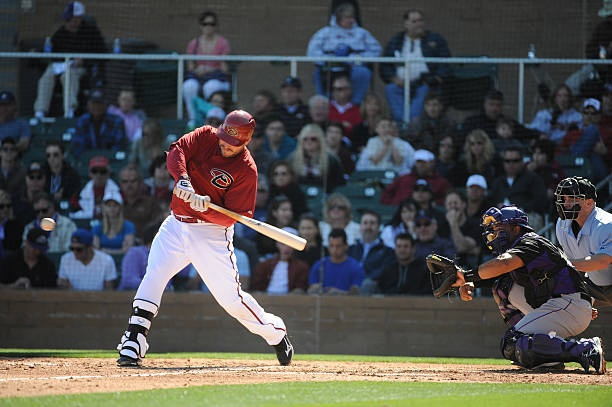bita: (194, 195, 308, 251)
